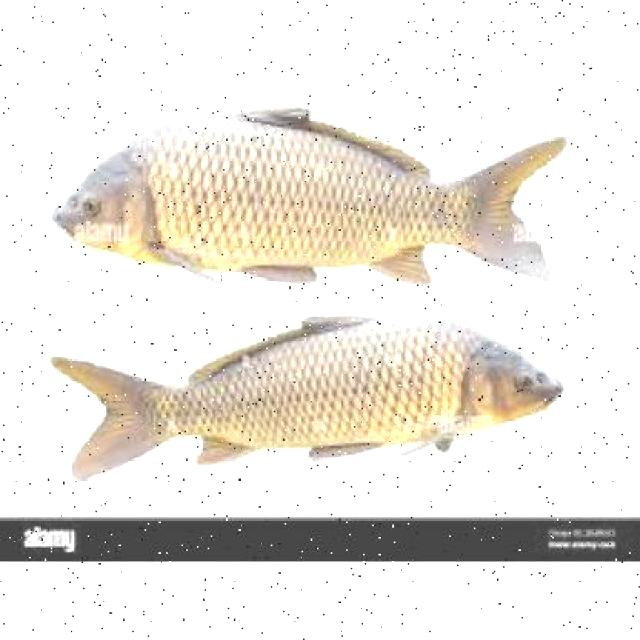ikan-mas: (61, 296, 572, 489), (59, 96, 572, 278)
